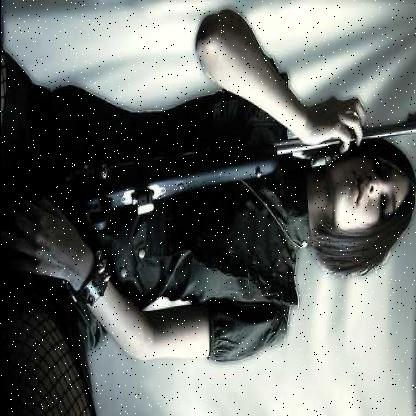rifle: (12, 105, 416, 252)
